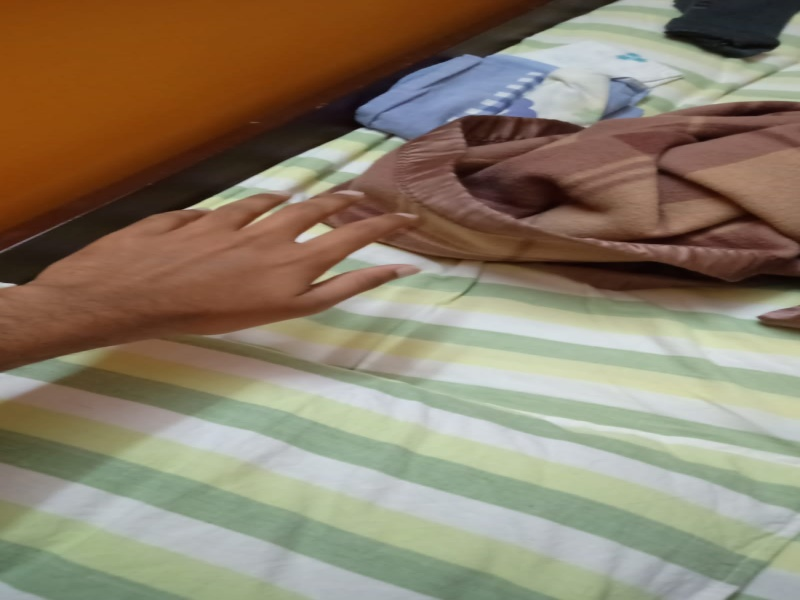Hand: (23, 180, 424, 362)
